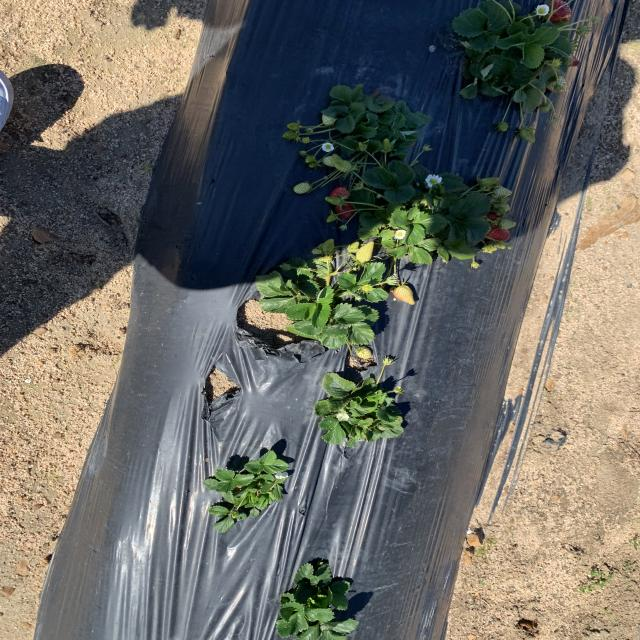unripe: (545, 0, 574, 24), (477, 223, 510, 244), (329, 185, 351, 204), (334, 202, 356, 219), (482, 209, 500, 221)
